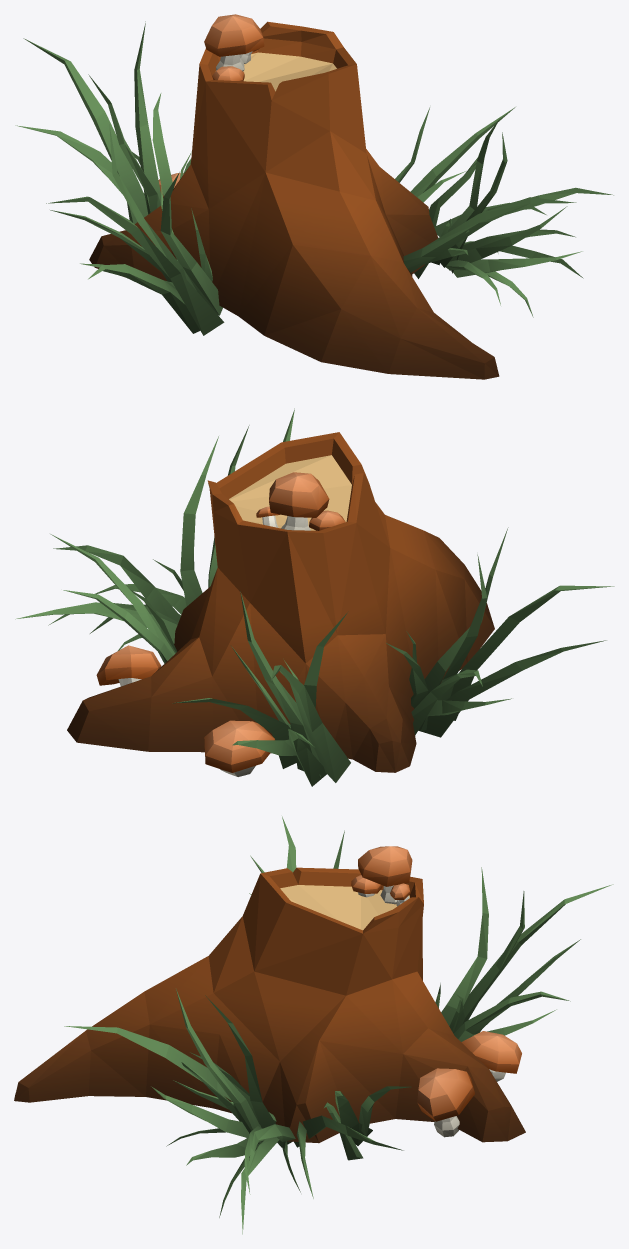
The model's file is TreeStump_A-03.FBX.
3 views of the same model, one above another, from view 1: azimuth 30°, elevation 25°; view 2: azimuth 150°, elevation 25°; view 3: azimuth 270°, elevation 25° (orthographic). The views are drawn at different scales.
Parts seen in each view (by area): view 1: TreeStump_A-03; view 2: TreeStump_A-03; view 3: TreeStump_A-03.
Boxes of the visible parts, x1,y1,x2,y2 form: TreeStump_A-03: [15, 14, 613, 379]; TreeStump_A-03: [15, 408, 614, 786]; TreeStump_A-03: [14, 816, 613, 1234].
Bounding box in the file's own units: 253 × 127 × 251.
Materials: 1 (1 with a texture image).
